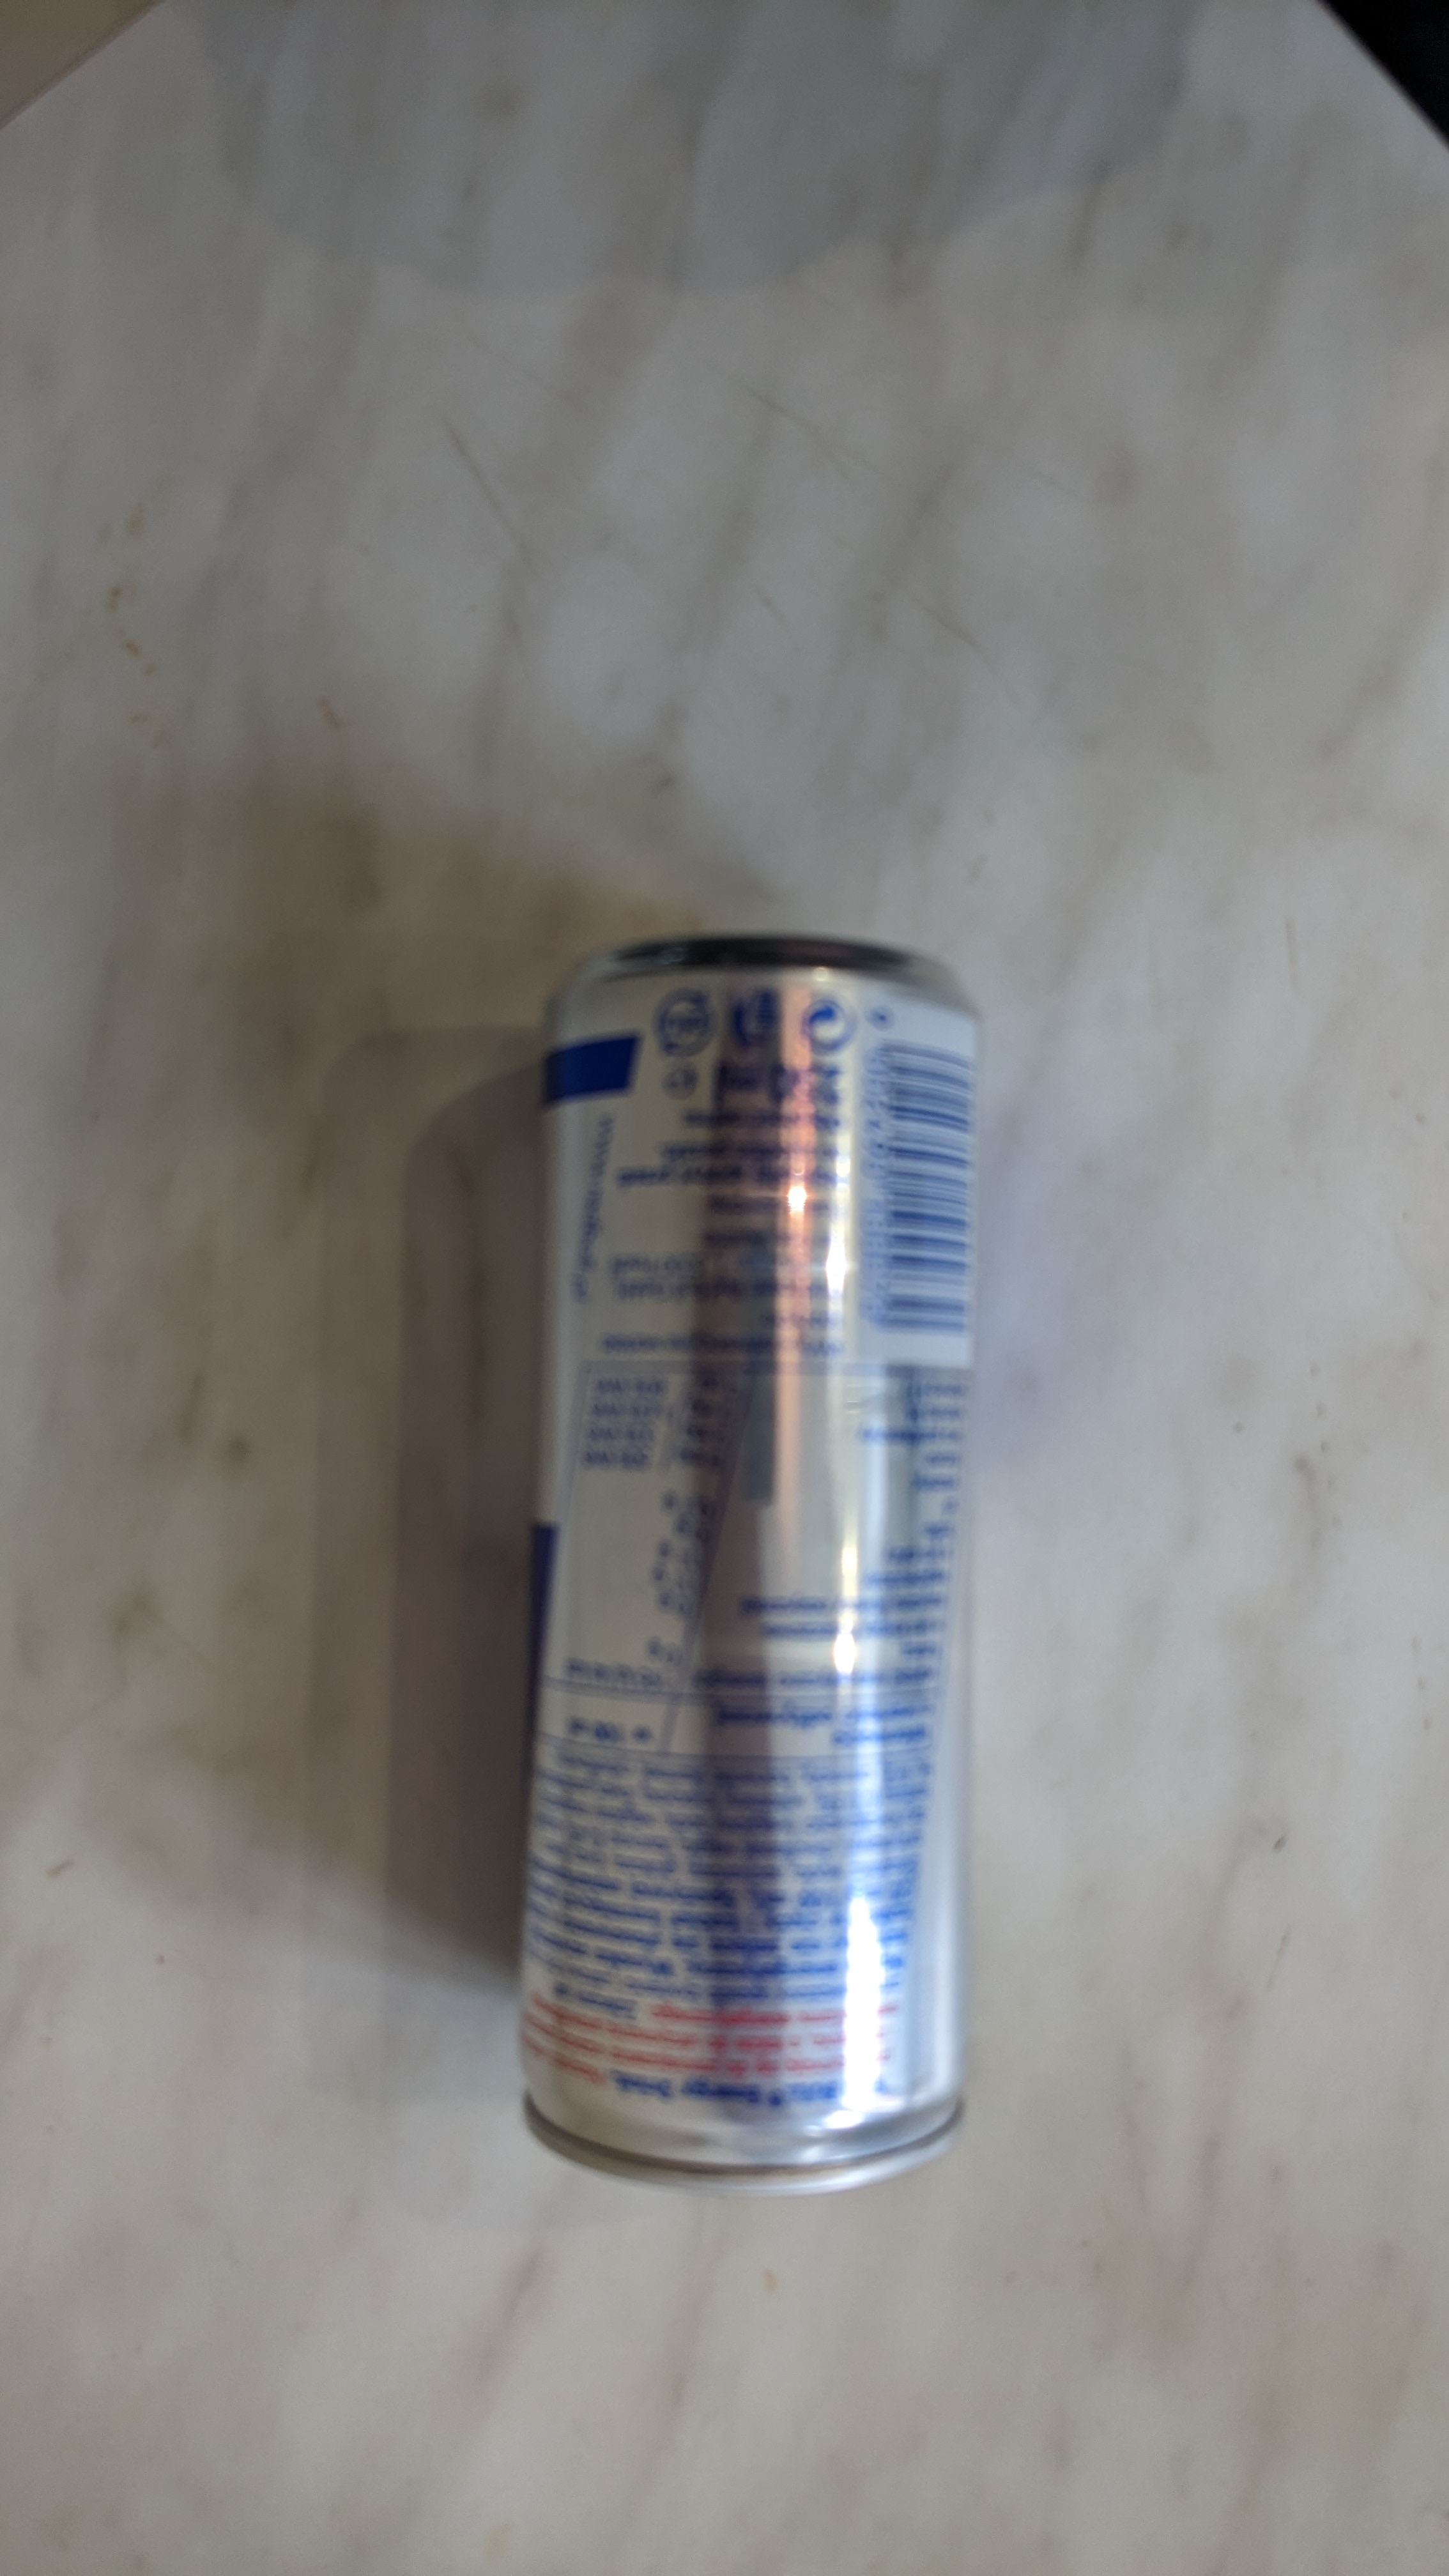red-bull: (494, 899, 1019, 2224)
